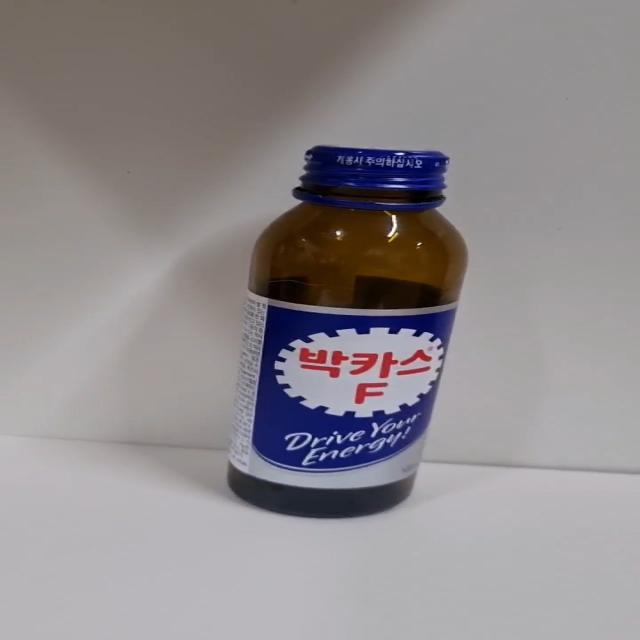Glass: (225, 146, 469, 521)
